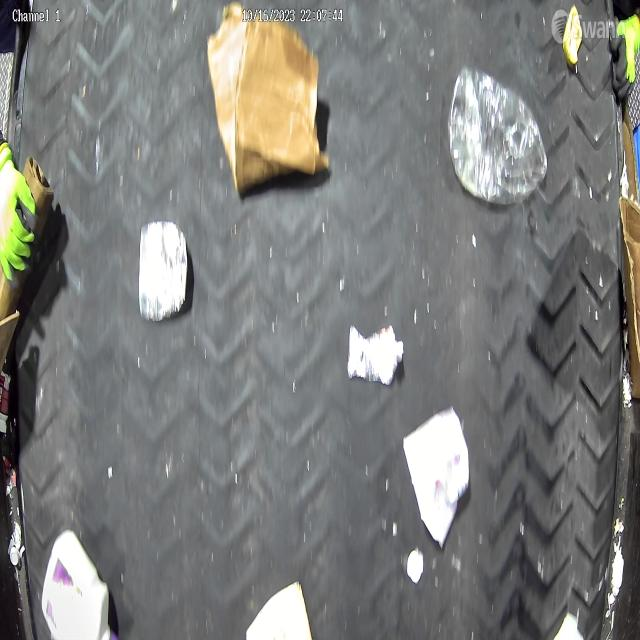can: (138, 216, 190, 322)
non_white_jug: (42, 525, 112, 640)
plastic_bottle: (448, 66, 547, 205)
